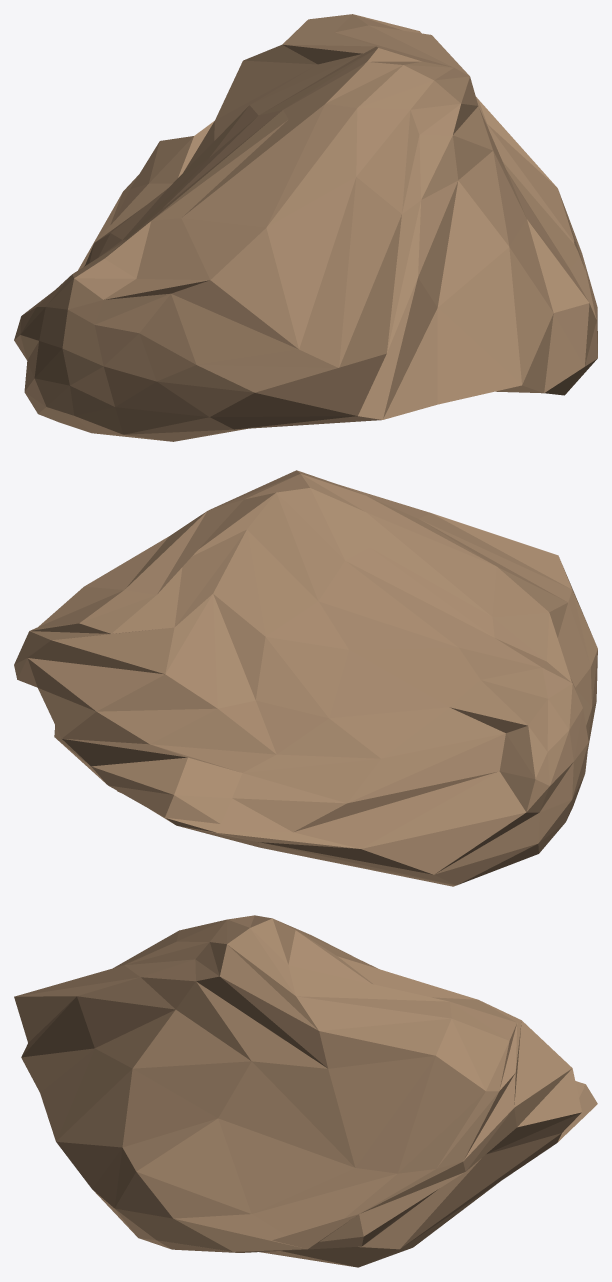
Rendered from Rock2.fbx.
3 renders of one model, top to bottom at view 1: azimuth 30°, elevation 25°; view 2: azimuth 150°, elevation 25°; view 3: azimuth 270°, elevation 25°, orthographic. The views are drawn at different scales.
Visible parts, largest first — view 1: Icosphere; view 2: Icosphere; view 3: Icosphere.
Boxes of the visible parts, x1,y1,x2,y2 form: Icosphere: [14, 14, 597, 441]; Icosphere: [14, 470, 597, 886]; Icosphere: [14, 915, 597, 1267].
Bounding box in the file's own units: 655 × 371 × 677.
